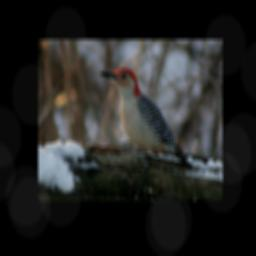Woodpecker: (98, 68, 191, 166)
